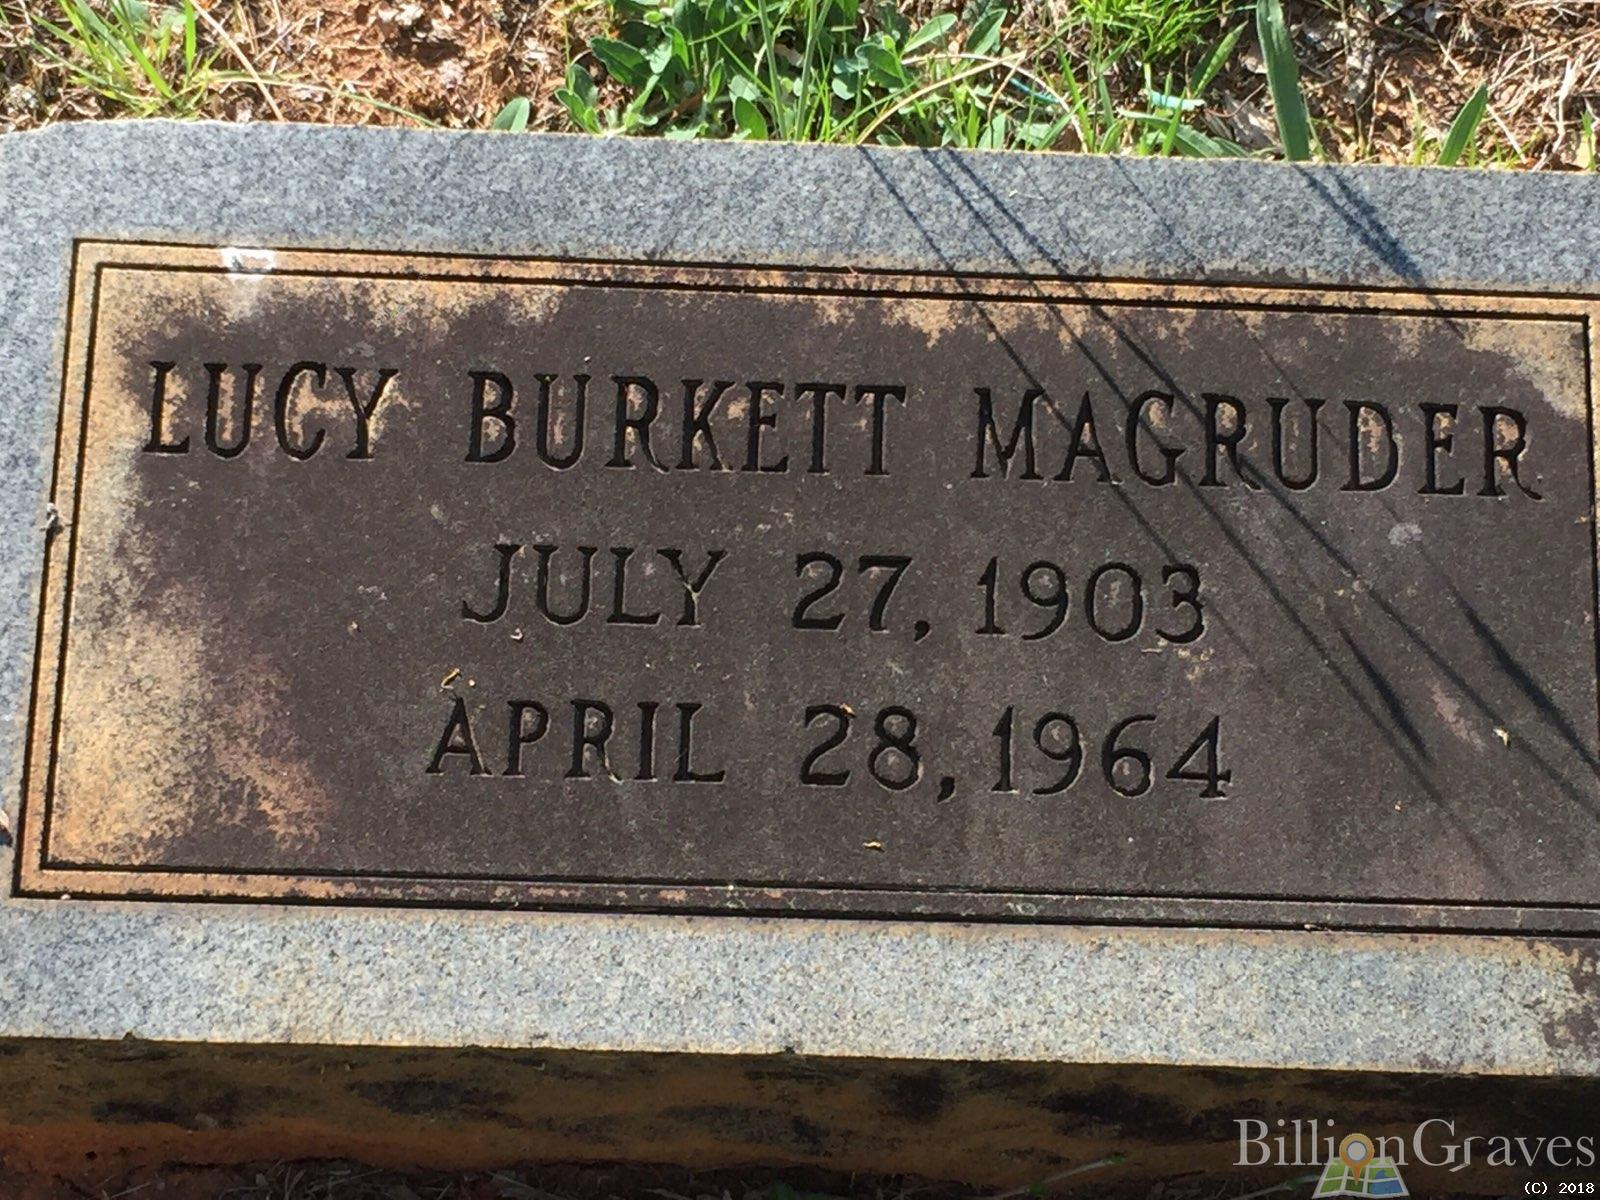flat: (16, 134, 1595, 1058)
